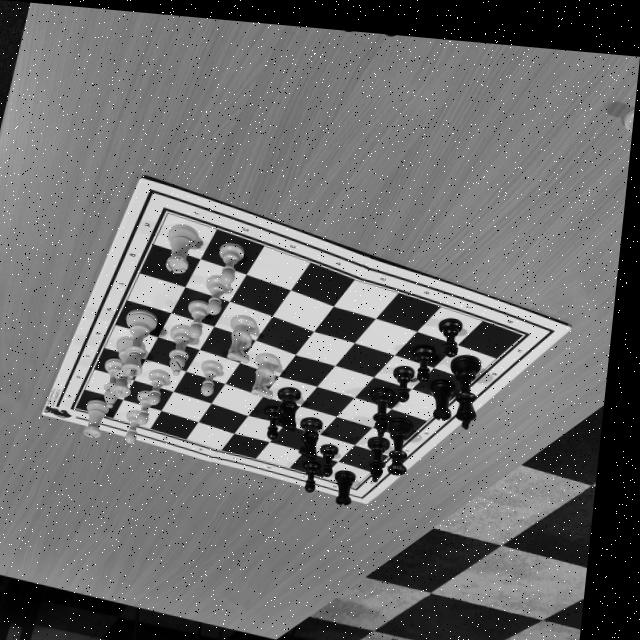chessboard: (81, 207, 532, 482)
